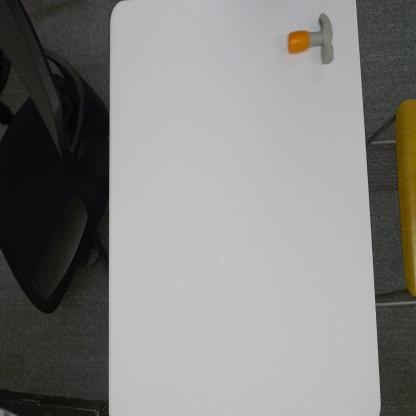Hammer: (286, 12, 336, 66)
